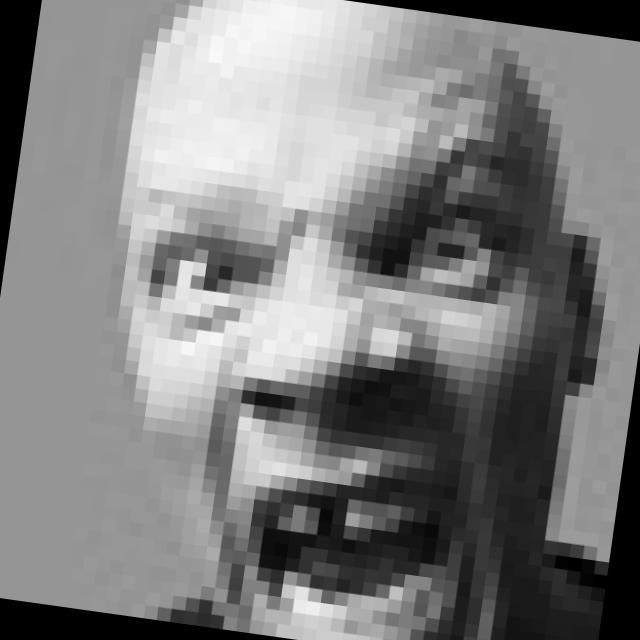angry: (94, 93, 551, 640)
